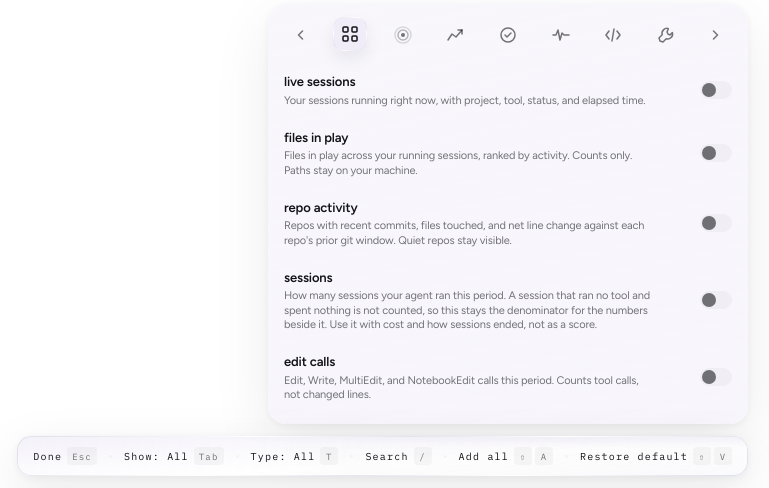
Scenario: filtering › resets every filter when the picker is reopened
Step 1. Click the button "Show: All Tab" → (174, 456), box [116,442,232,470]
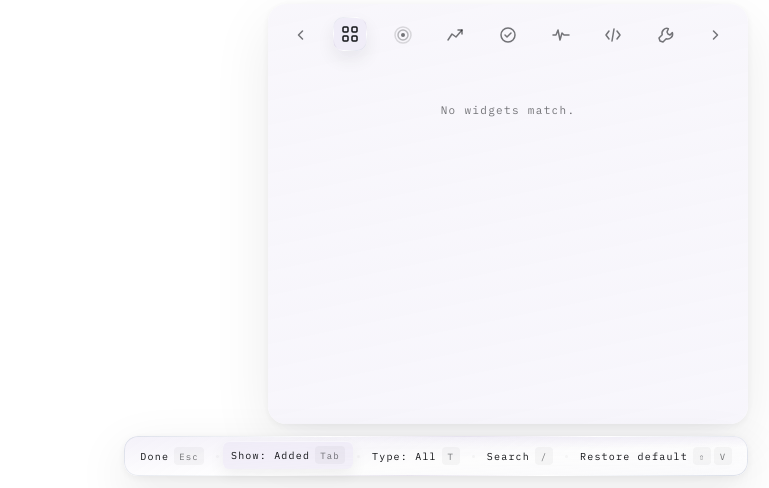
Step 2. Click the button "Type: All T" → (416, 456), box [364,442,468,470]
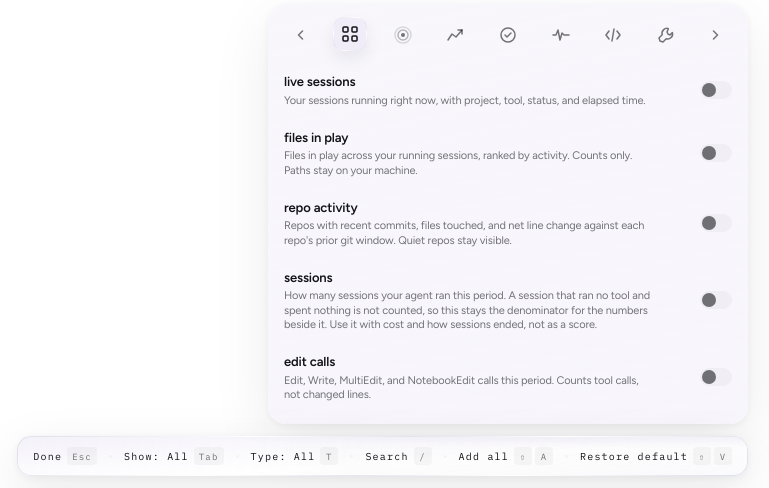
expect the button "Show: All Tab" is shown: met, box [116,442,232,470]
